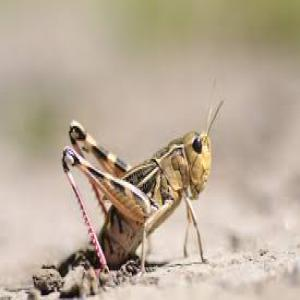locust: (58, 103, 226, 277)
